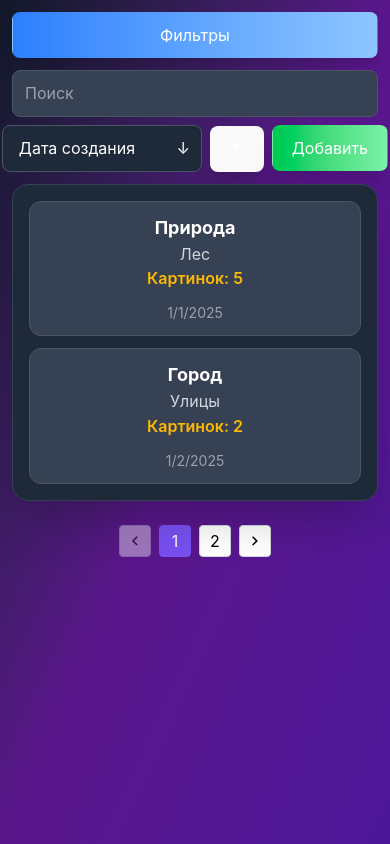
Gallery Page Coverage › должен открывать Drawer с фильтрами и находить заголовок внутри него
Click the button "Фильтры": {"x": 195, "y": 35} 12,12 -> 378,58
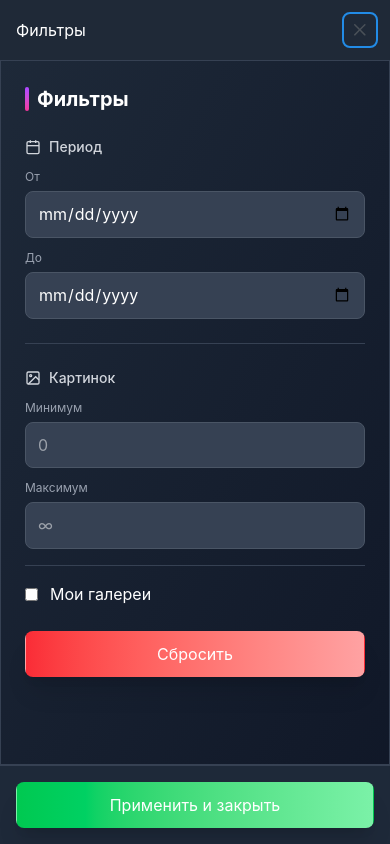
Now the 1st heading "Фильтры" is shown, box 16,22 -> 86,38
